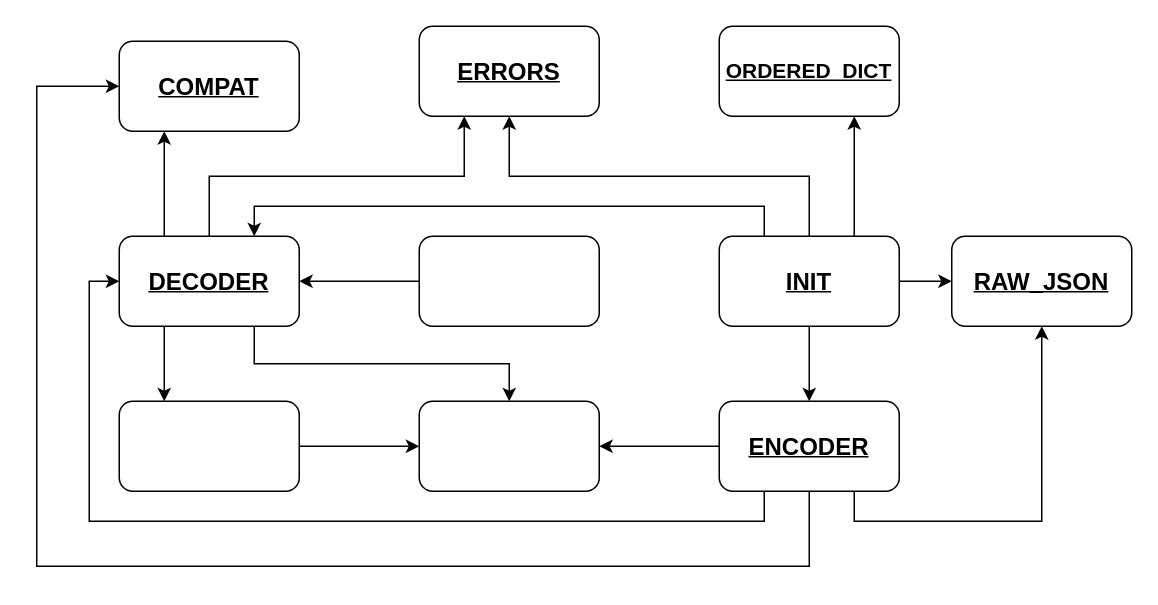
The diagram is 1158 pixels wide and 605 high, and some of its shapes have lost their labels. Each missing label, with the box of its shape:
SCANNER: (118, 400, 299, 491)
SPEEDUPS: (418, 400, 599, 491)
TOOL: (418, 235, 599, 326)
